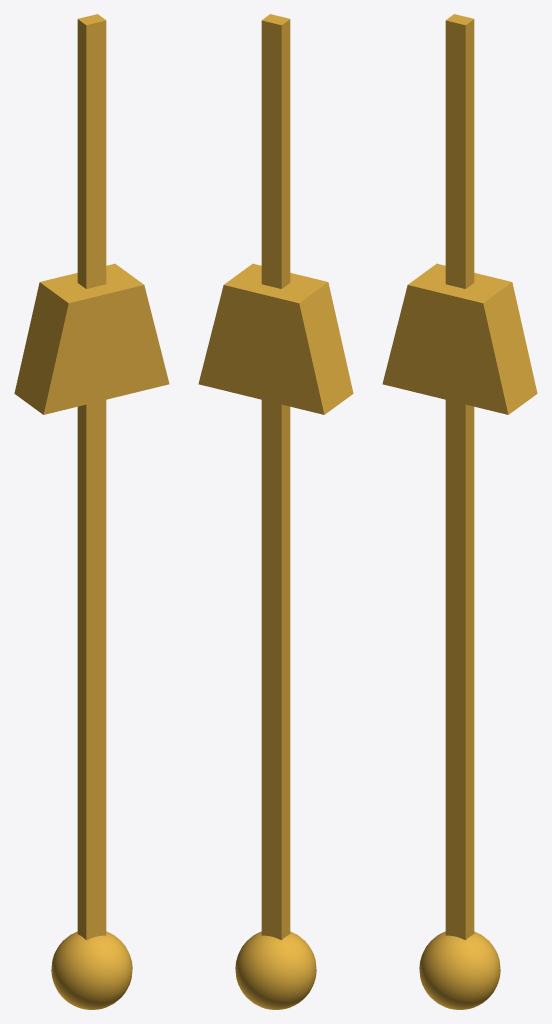
Rendered from Boss4_Pendulum.obj.
The picture shows the model from 3 angles, left to right: view 1: azimuth 30°, elevation 25°; view 2: azimuth 150°, elevation 25°; view 3: azimuth 330°, elevation 25°; orthographic projection.
Visible parts, largest first — view 1: Rod, Weight; view 2: Rod, Weight; view 3: Rod, Weight.
Boxes of the visible parts, bbox=[...] form: Rod: bbox=[51, 14, 132, 1009]; Weight: bbox=[14, 263, 169, 414]; Rod: bbox=[235, 14, 316, 1009]; Weight: bbox=[198, 263, 353, 414]; Rod: bbox=[419, 14, 500, 1009]; Weight: bbox=[382, 263, 537, 414].
Size of the model in its own units: 0.05 by 0.374 by 0.028.
